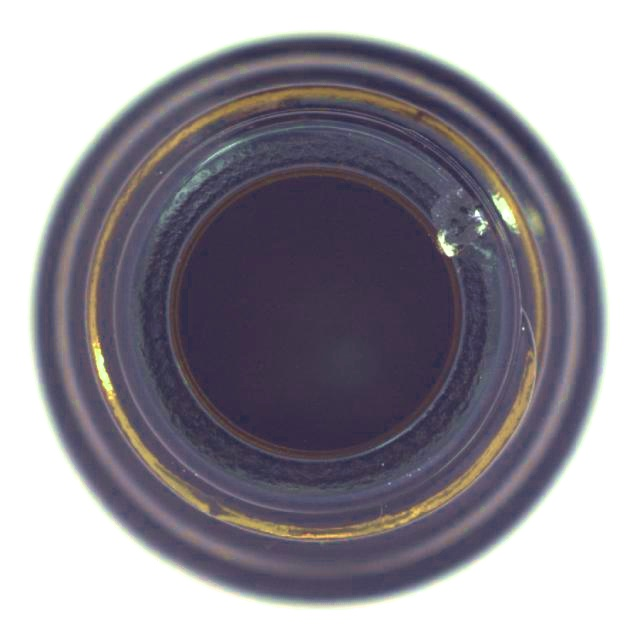bad-broken_small: (28, 30, 611, 611)
